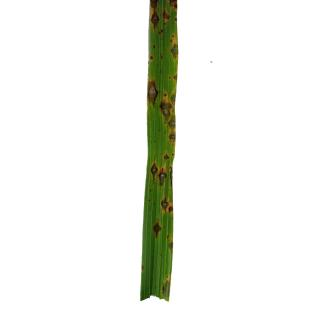Blast: (166, 34, 179, 63), (162, 94, 172, 121), (148, 80, 157, 108), (157, 164, 168, 186), (152, 12, 160, 32), (151, 161, 158, 182), (152, 222, 160, 240), (161, 9, 169, 26), (162, 198, 170, 212), (150, 0, 160, 11), (169, 0, 177, 10), (172, 128, 175, 144), (174, 73, 176, 83)
